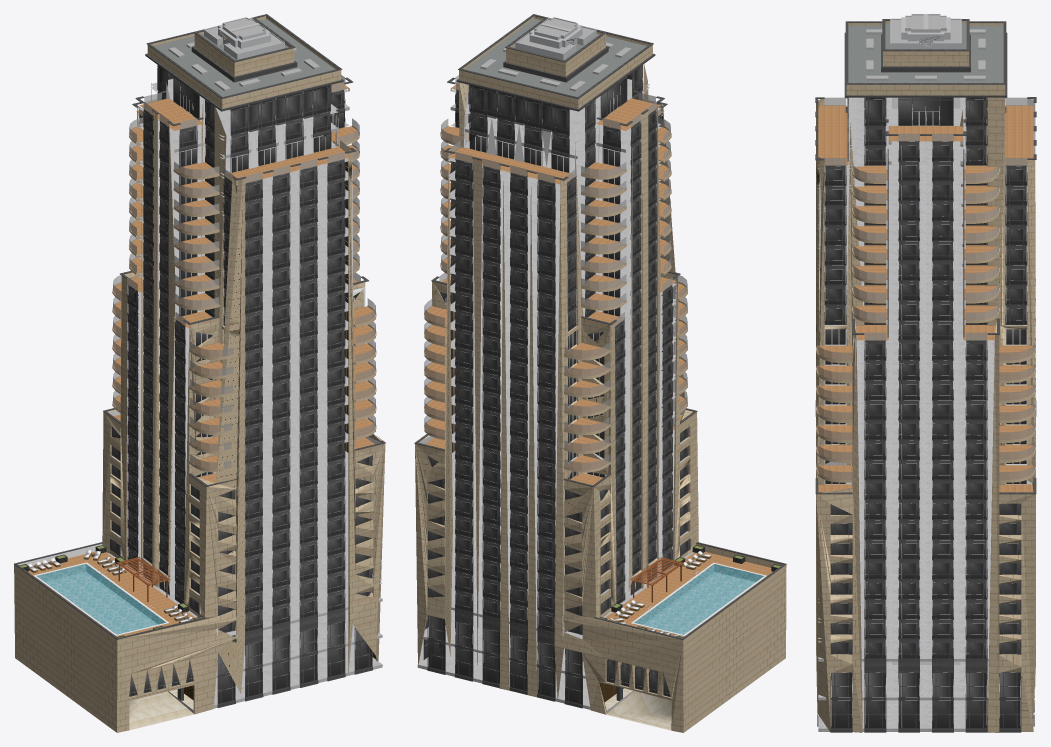
Rendered from hotel_tower.glb.
3 views of the same model, side by side, from view 1: azimuth 30°, elevation 25°; view 2: azimuth 150°, elevation 25°; view 3: azimuth 270°, elevation 25° (orthographic). The views are drawn at different scales.
Parts seen in each view (by area): view 1: hotel_tower; view 2: hotel_tower; view 3: hotel_tower.
Boxes of the visible parts, x1,y1,x2,y2 form: hotel_tower: (14,14,385,732); hotel_tower: (414,14,786,732); hotel_tower: (815,14,1036,732).
Bounding box in the file's own units: 67.65 × 150 × 45.3.
26 materials, 18 textured.
